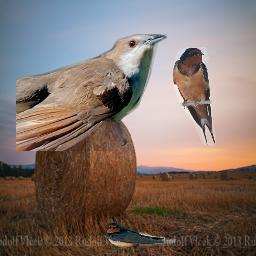Cuckoo: (16, 34, 167, 151)
Swallow: (172, 47, 216, 146), (105, 221, 176, 249)
